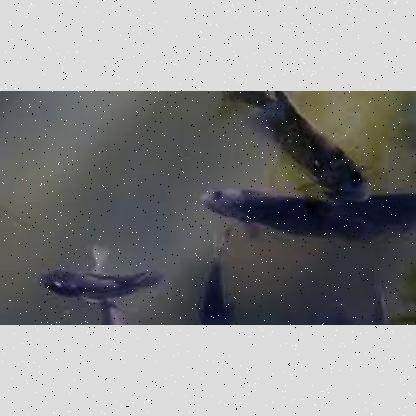gurame: (232, 91, 372, 197), (196, 180, 326, 244), (40, 264, 156, 304)
